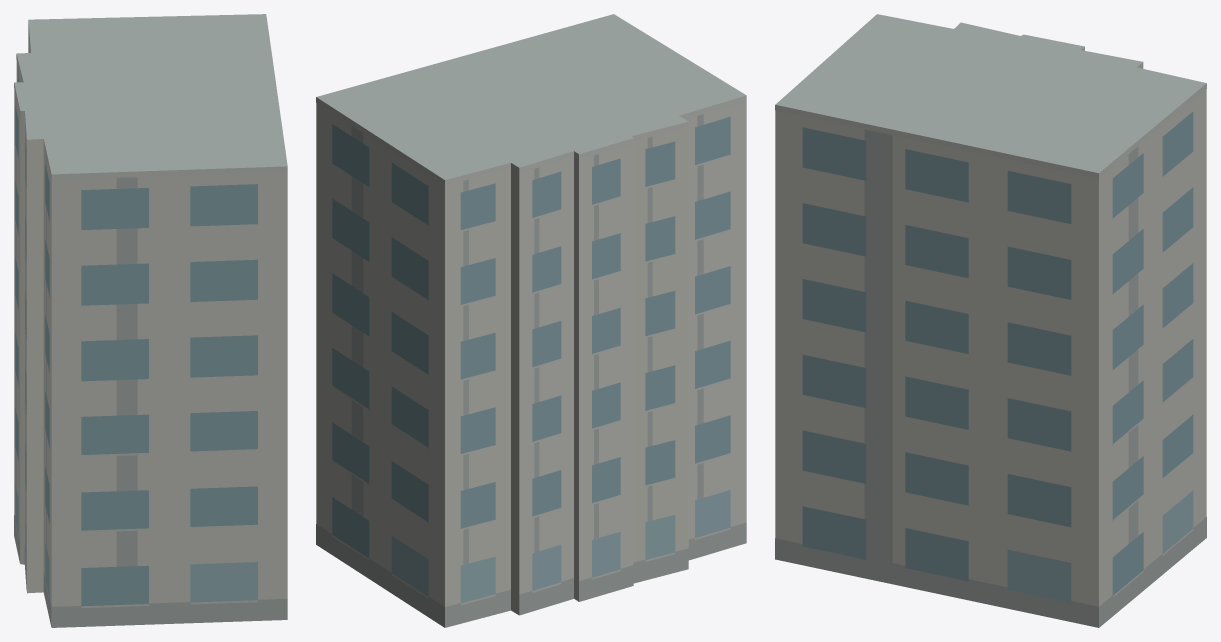
Rendered from survey-upis-32891670.glb.
3 renders of one model, left to right at view 1: azimuth 30°, elevation 25°; view 2: azimuth 150°, elevation 25°; view 3: azimuth 270°, elevation 25°, orthographic.
Parts seen in each view (by area): view 1: survey-upis-32891670.tmp; view 2: survey-upis-32891670.tmp; view 3: survey-upis-32891670.tmp.
Part boxes in pixels (bbox=[...]): survey-upis-32891670.tmp: bbox=[14, 14, 287, 627]; survey-upis-32891670.tmp: bbox=[316, 14, 746, 627]; survey-upis-32891670.tmp: bbox=[775, 14, 1206, 627].
Size of the model in its own units: 14.43 by 19.2 by 16.53.
